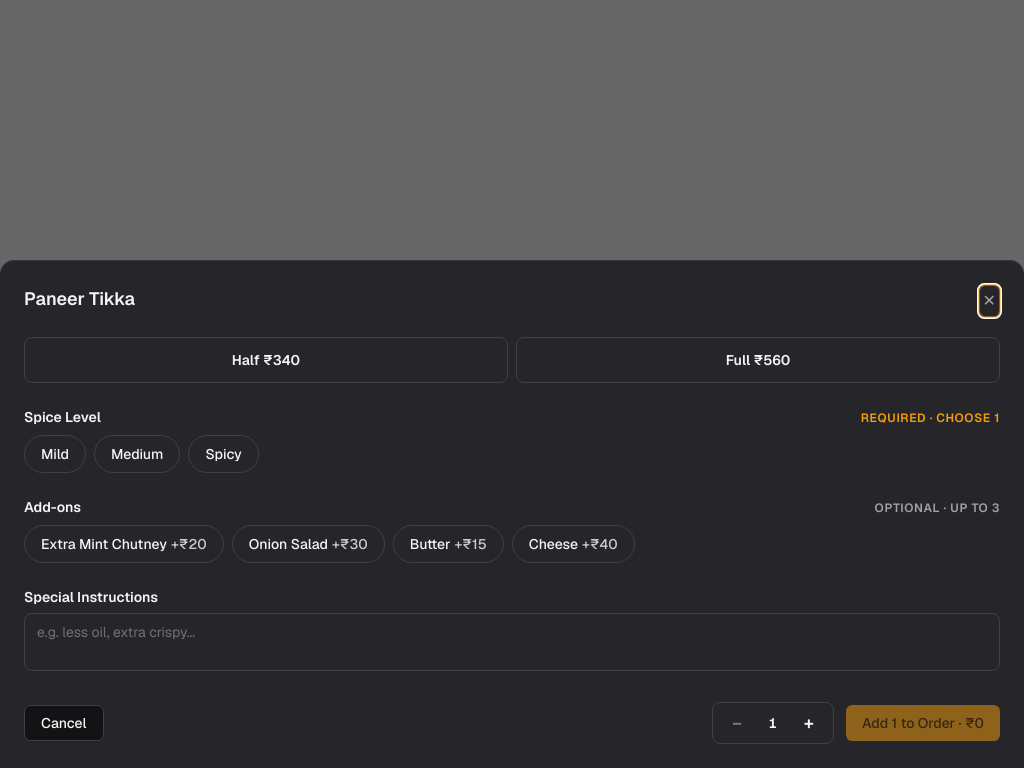
Scenario: ModifierSheet › blocks confirm until the required modifier group and a variant are both chosen
Expected: the button with test id "modifier-sheet-confirm" is disabled, [846,705,1000,741]
Click the button with test id "variant-chip-v-half".
click(266, 360)  # box [24,337,508,383]
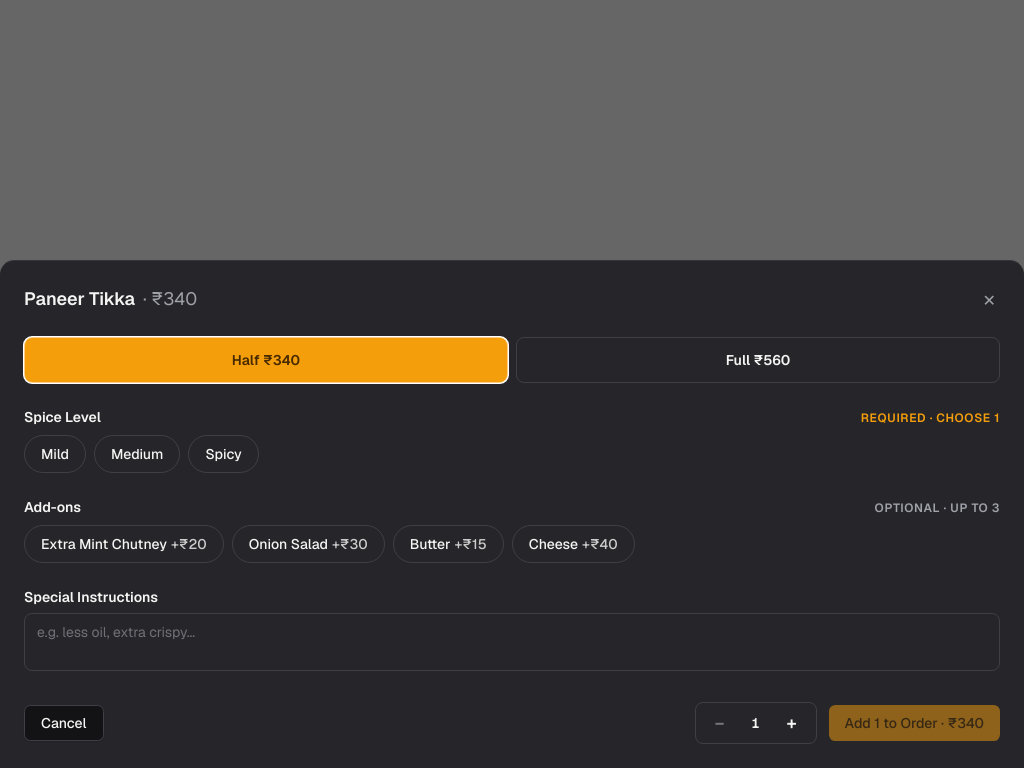
Expected: the button with test id "modifier-sheet-confirm" is disabled, [828,705,1000,741]
Click the button with test id "modifier-chip-m-medium".
click(137, 454)  # box [94,435,180,473]
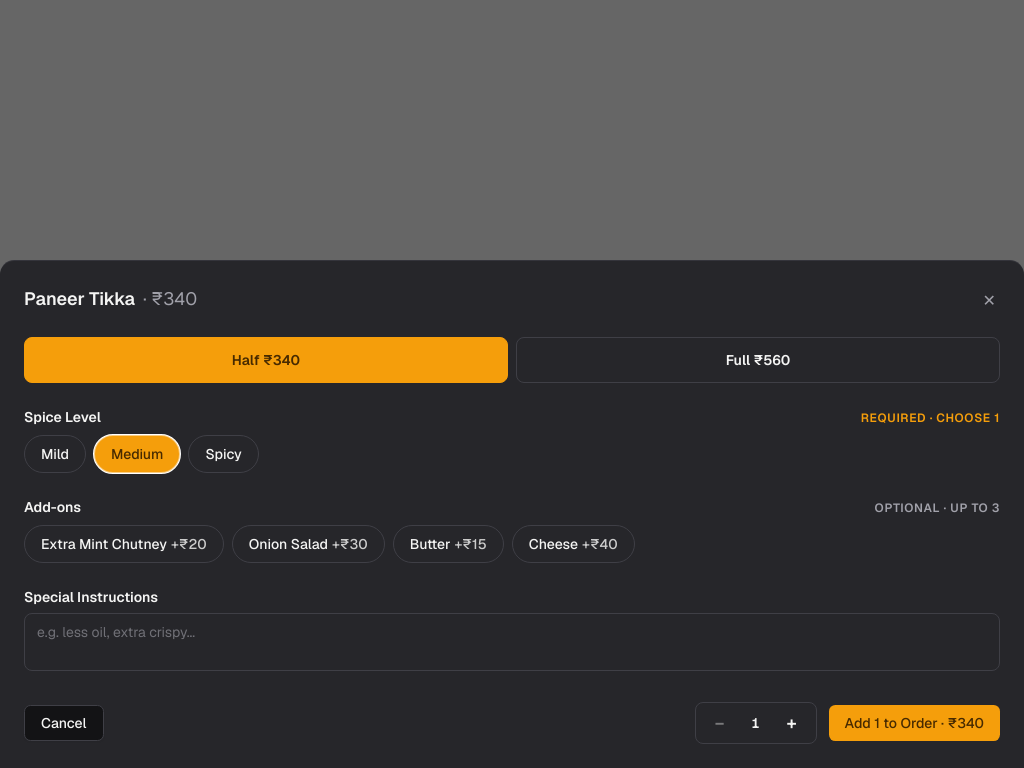
Expected: the button with test id "modifier-sheet-confirm" is enabled, [828,705,1000,741]
